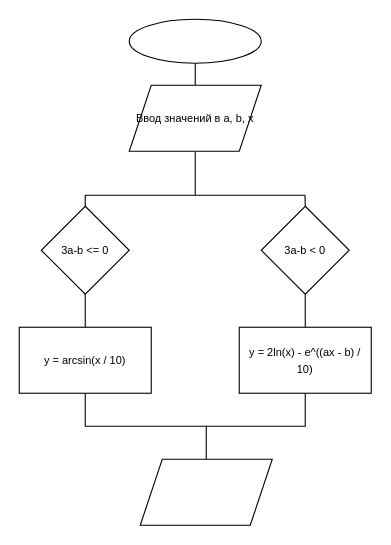
Some shapes in this 391 by 545 pixel diagram are drawn without their labels. The centre of each missing label's shape, as x and y in pixels:
"Вывод полученного числа y" belongs at (205,491).
"Начало" belongs at (194,40).
